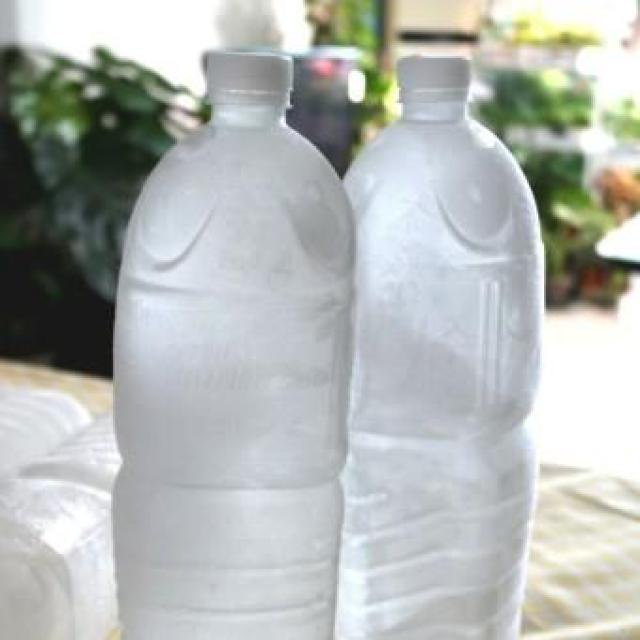bottle: (105, 47, 352, 640), (337, 57, 546, 637)
